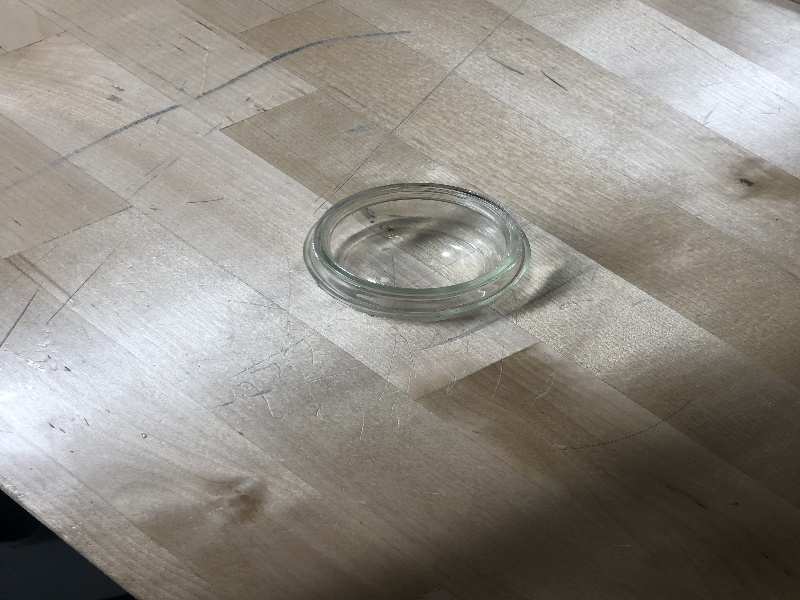glass: (301, 178, 539, 330)
